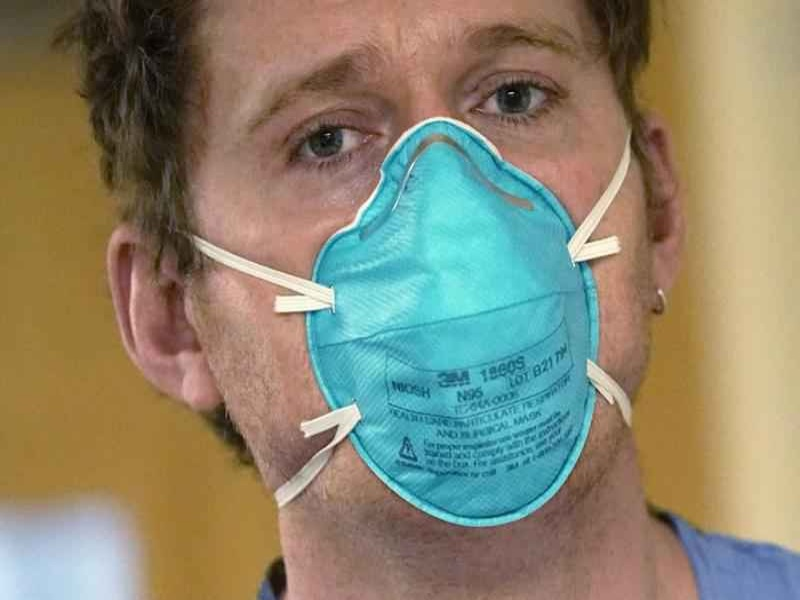mask: (305, 115, 607, 528)
